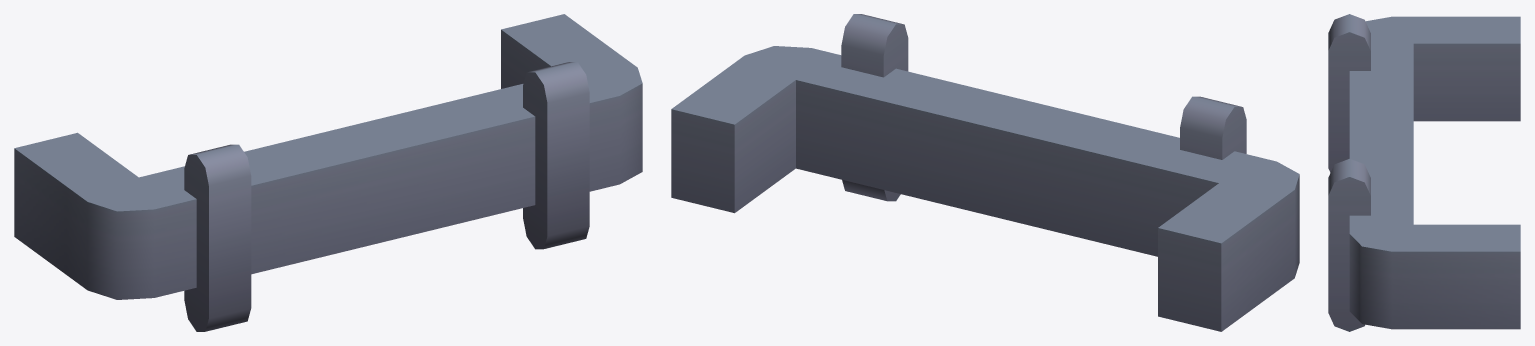
The model's file is kenney-debris-bumper.glb.
3 renders of one model, left to right at view 1: azimuth 30°, elevation 25°; view 2: azimuth 150°, elevation 25°; view 3: azimuth 270°, elevation 25°, orthographic. The views are drawn at different scales.
Visible parts, largest first — view 1: debris-bumper; view 2: debris-bumper; view 3: debris-bumper.
Part boxes in pixels (x1,y1,x2,y2): debris-bumper: (14, 14, 642, 331); debris-bumper: (671, 14, 1299, 331); debris-bumper: (1328, 14, 1520, 331).
Bounding box in the file's own units: 1.3 × 0.4 × 0.45.
1 material, 1 textured.
